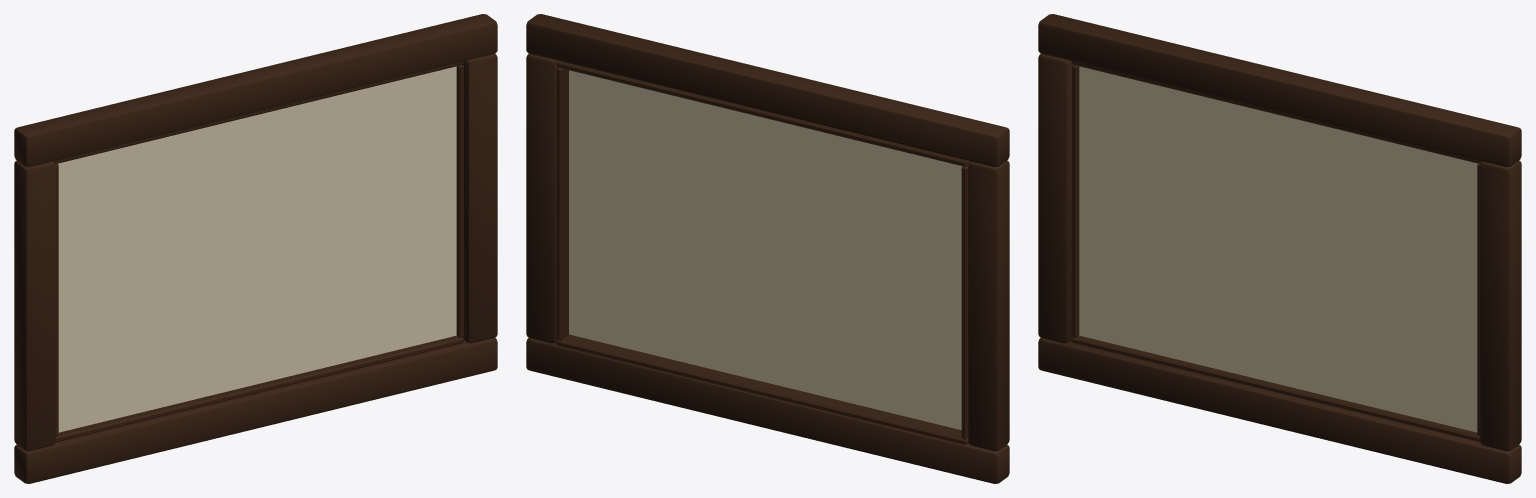
Rendered from floor_plan_frame.glb.
3 renders of one model, left to right at view 1: azimuth 30°, elevation 25°; view 2: azimuth 150°, elevation 25°; view 3: azimuth 330°, elevation 25°, orthographic.
Parts seen in each view (by area): view 1: IA_floor_plan, floor_plan_frame; view 2: IA_floor_plan, floor_plan_frame; view 3: IA_floor_plan, floor_plan_frame.
Boxes of the visible parts, x1,y1,x2,y2 form: IA_floor_plan: (57, 66, 456, 432); floor_plan_frame: (14, 14, 497, 483); IA_floor_plan: (569, 70, 962, 429); floor_plan_frame: (526, 14, 1009, 483); IA_floor_plan: (1079, 66, 1478, 432); floor_plan_frame: (1038, 14, 1521, 483).
Size of the model in its own units: 0.68 by 0.48 by 0.035.
